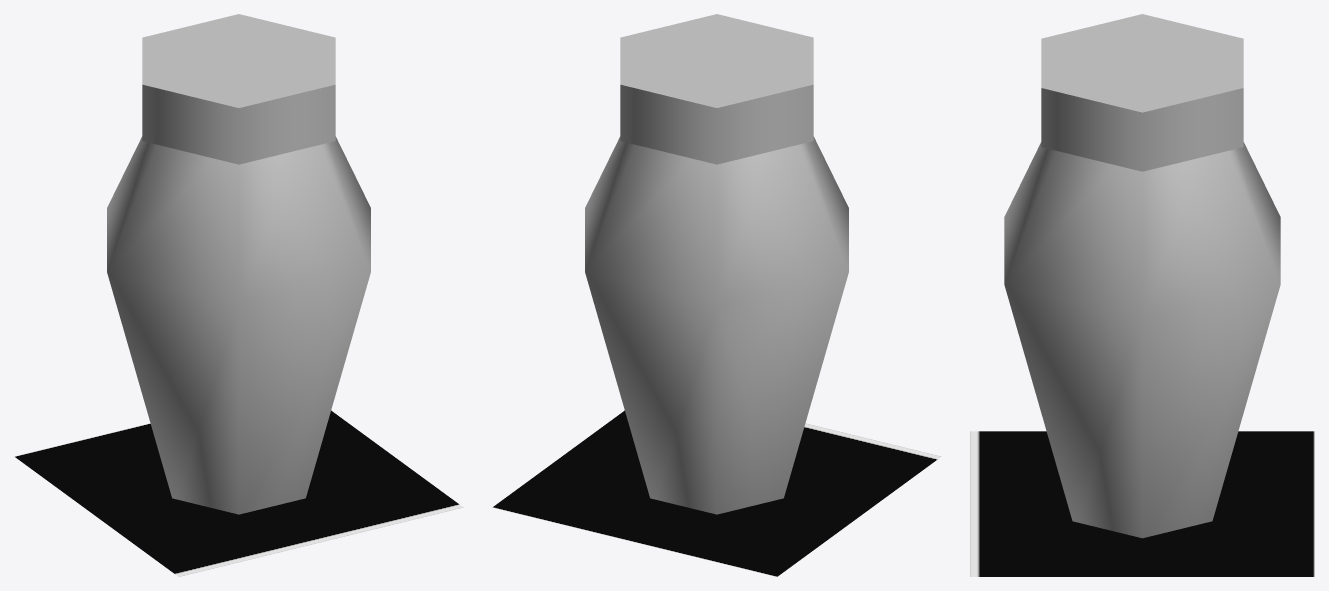
File: vase_06.fbx
The picture shows the model from 3 angles, left to right: view 1: azimuth 30°, elevation 25°; view 2: azimuth 150°, elevation 25°; view 3: azimuth 270°, elevation 25°; orthographic projection. The views are drawn at different scales.
Parts seen in each view (by area): view 1: vase_06, shadow; view 2: vase_06, shadow; view 3: vase_06, shadow.
Part boxes in pixels (x1,y1,x2,y2): vase_06: [107, 14, 370, 514]; shadow: [14, 410, 463, 576]; vase_06: [585, 14, 848, 514]; shadow: [492, 410, 941, 576]; vase_06: [1004, 14, 1280, 538]; shadow: [970, 431, 1314, 576].
Bounding box in the file's own units: 12.37 × 17.86 × 12.37.
